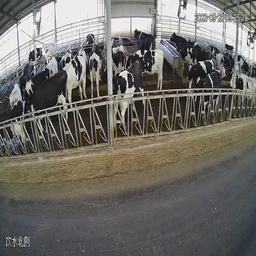cow: (31, 69, 68, 141), (119, 55, 148, 132), (0, 106, 27, 158), (195, 70, 223, 120), (228, 69, 255, 111), (62, 54, 87, 99), (87, 39, 104, 101), (169, 27, 197, 62), (149, 48, 165, 95), (182, 62, 218, 82), (111, 36, 126, 76), (132, 25, 153, 51), (7, 74, 21, 106), (42, 38, 57, 57), (28, 46, 41, 63)
